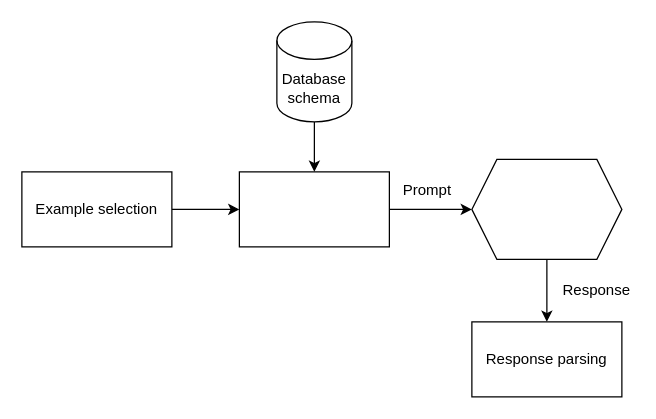
Some shapes in this 656 by 419 pixel diagram are drawn without their labels. Each missing label, with the centre of its shape:
LLM: point 546,208
Question organisation: point 313,209
